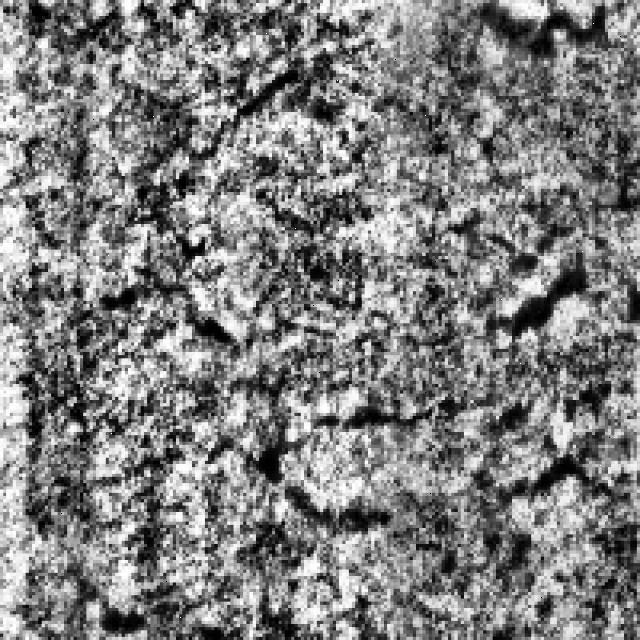Pitted_Surface: (247, 384, 618, 531)
